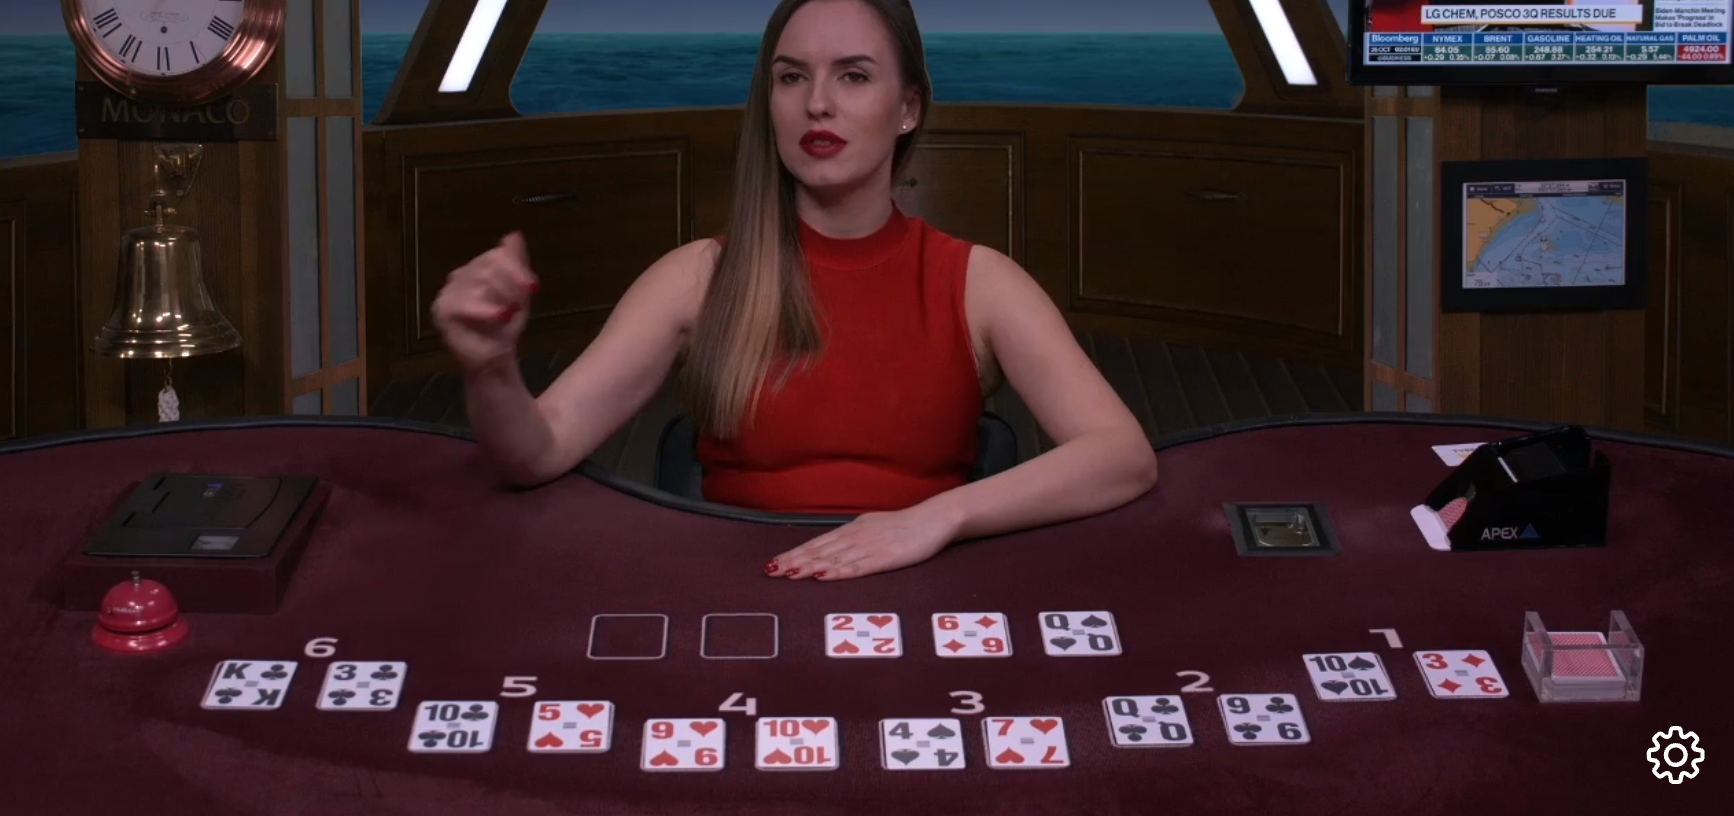10c: (407, 700, 500, 759)
10h: (752, 716, 843, 772)
10s: (1304, 648, 1404, 703)
2h: (826, 607, 905, 663)
3c: (323, 657, 406, 711)
3d: (1413, 647, 1511, 699)
4s: (878, 716, 970, 772)
5h: (530, 692, 616, 759)
6d: (929, 606, 1013, 660)
7h: (988, 711, 1074, 771)
9c: (1215, 691, 1313, 747)
9h: (641, 715, 729, 770)
kc: (202, 652, 291, 708)
qc: (1103, 695, 1197, 754)
qs: (1033, 608, 1124, 658)
